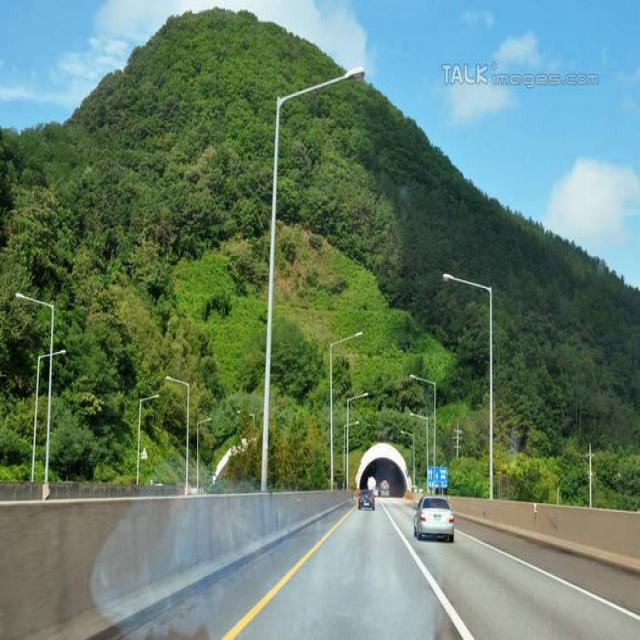point: (351, 434, 420, 514)
